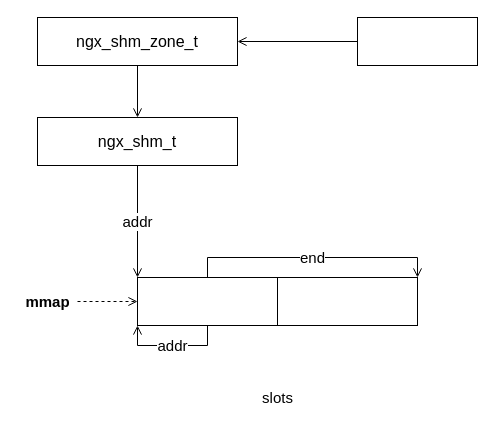
The diagram is 495 pixels wide and 425 high, and some of its shapes have lost their labels. The centre of each missing label's shape, as x and y in pixels:
"cycle" goes at point 417,41.
"ngx_slab_pool_t" goes at point 207,301.
